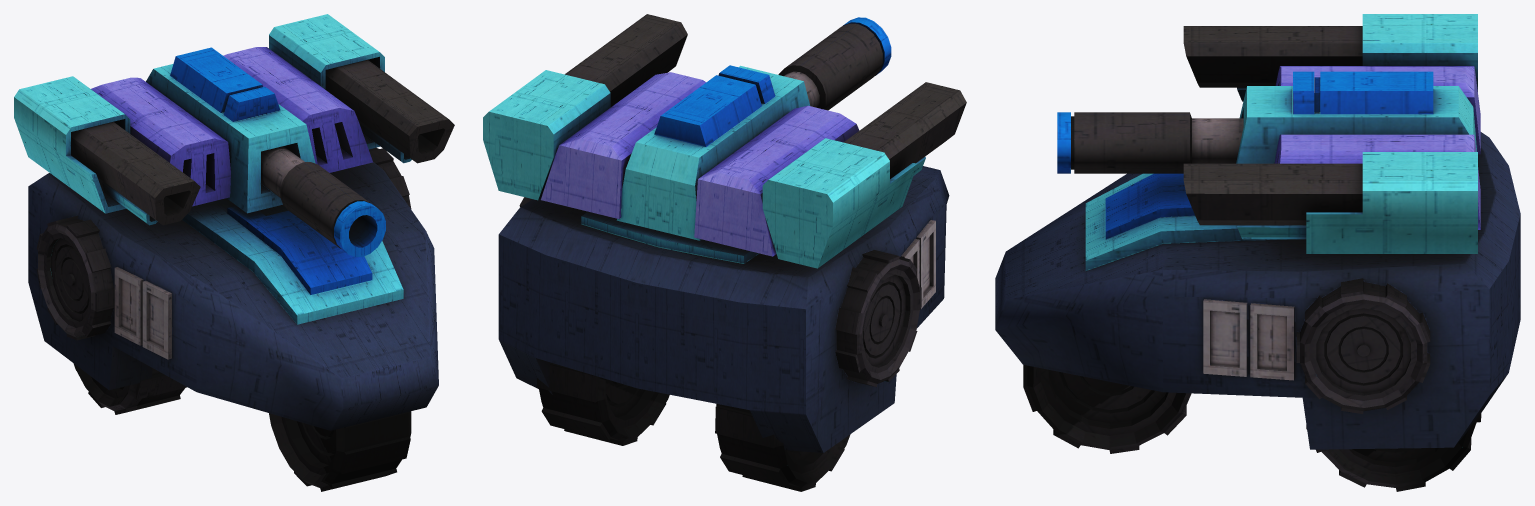
The model's file is PlayerA11.obj.
3 views of the same model, side by side, from view 1: azimuth 30°, elevation 25°; view 2: azimuth 150°, elevation 25°; view 3: azimuth 270°, elevation 25° (orthographic). The views are drawn at different scales.
Parts seen in each view (by area): view 1: Object001, Object002, Object004, Object003; view 2: Object001, Object002, Object003; view 3: Object001, Object002, Object004, Object003.
Boxes of the visible parts, x1=… form: Object001: x1=28, y1=47, x2=438, y2=430; Object002: x1=14, y1=14, x2=454, y2=225; Object004: x1=269, y1=411, x2=411, y2=491; Object003: x1=73, y1=363, x2=186, y2=414; Object001: x1=498, y1=17, x2=949, y2=452; Object002: x1=483, y1=14, x2=966, y2=268; Object003: x1=536, y1=363, x2=850, y2=491; Object001: x1=995, y1=66, x2=1520, y2=449; Object002: x1=1183, y1=14, x2=1477, y2=253; Object004: x1=1023, y1=365, x2=1191, y2=453; Object003: x1=1306, y1=412, x2=1481, y2=491.
Bounding box in the file's own units: 93.13 × 88.76 × 119.
Materials: 1 (1 with a texture image).
